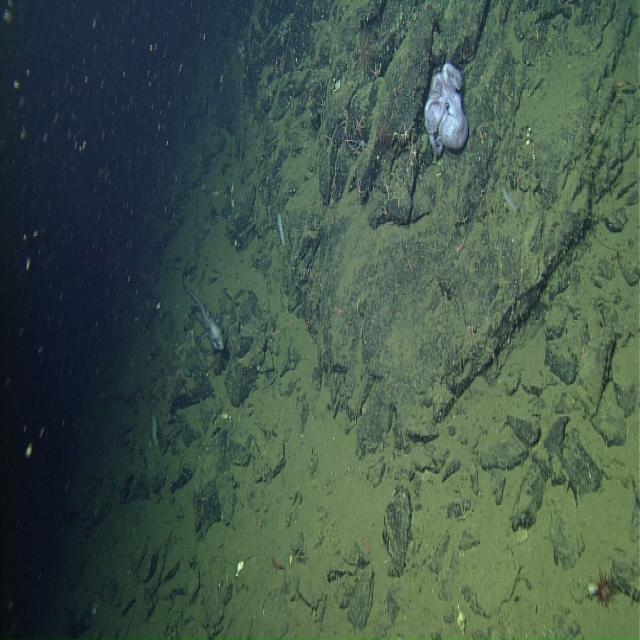Brittle Star: (330, 294, 347, 326)
Not Brittle Star: (423, 59, 471, 161), (179, 254, 226, 354), (352, 25, 378, 77), (372, 109, 395, 153), (267, 548, 287, 576), (150, 410, 160, 452), (276, 209, 286, 247), (235, 556, 247, 577)
